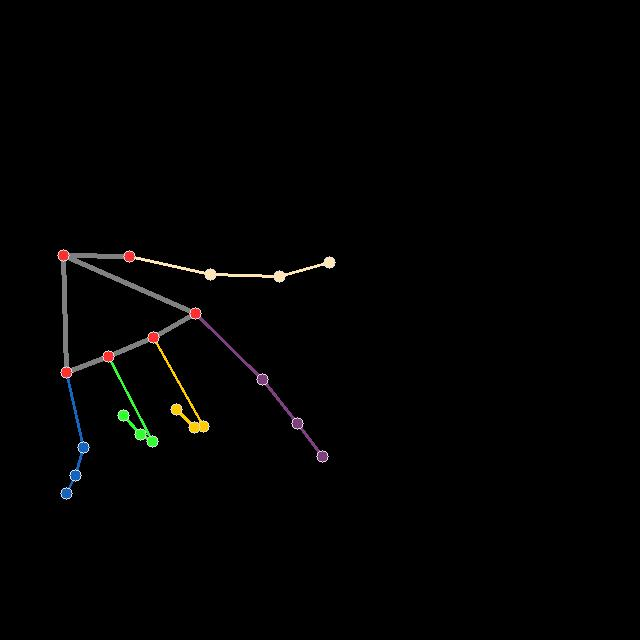spiderman: (58, 247, 336, 498)
